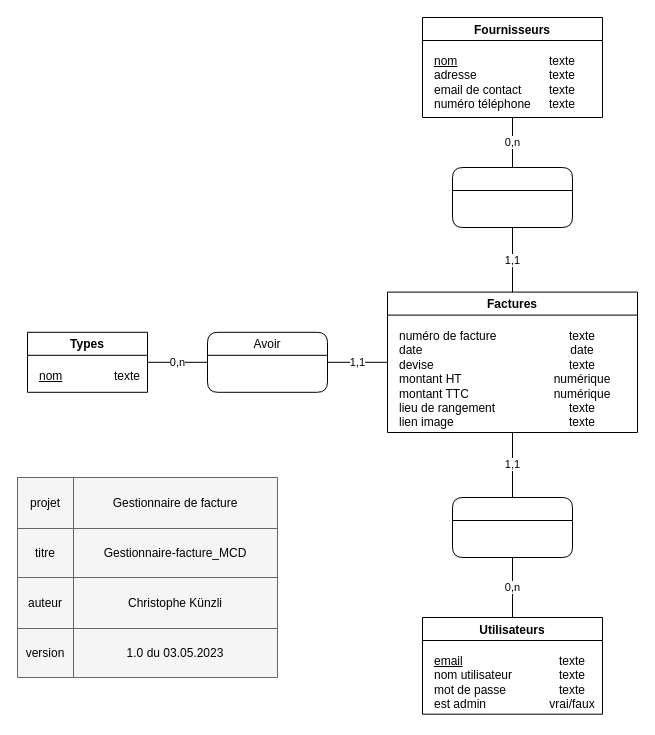
This 655x735 diagram has some shape labels left out. Each missing label, with the centre of its shape:
"Emettre" belongs at point 512,197.
"Recevoir" belongs at point 512,527.
